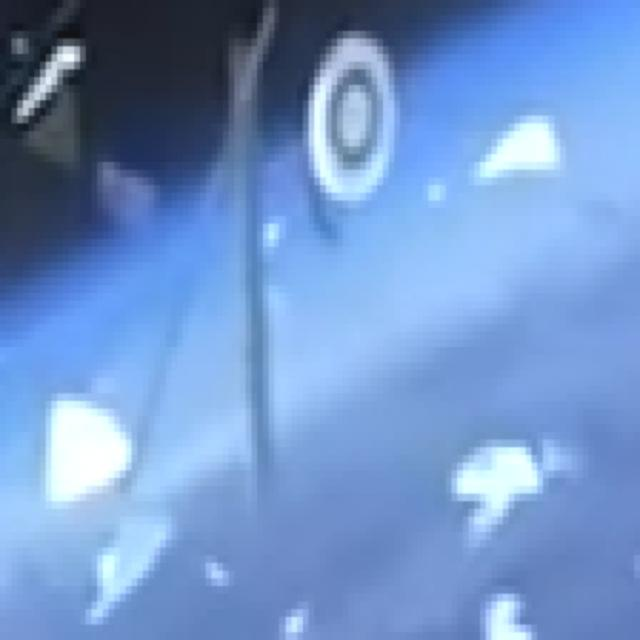medium_debris: (119, 12, 290, 503), (209, 36, 266, 523), (297, 23, 399, 226)
small_debris: (28, 393, 138, 520), (444, 445, 566, 545), (8, 38, 85, 139), (469, 111, 570, 186), (85, 154, 163, 229), (466, 593, 553, 640), (263, 594, 319, 640), (197, 553, 238, 598), (419, 172, 449, 216), (258, 216, 283, 263)
